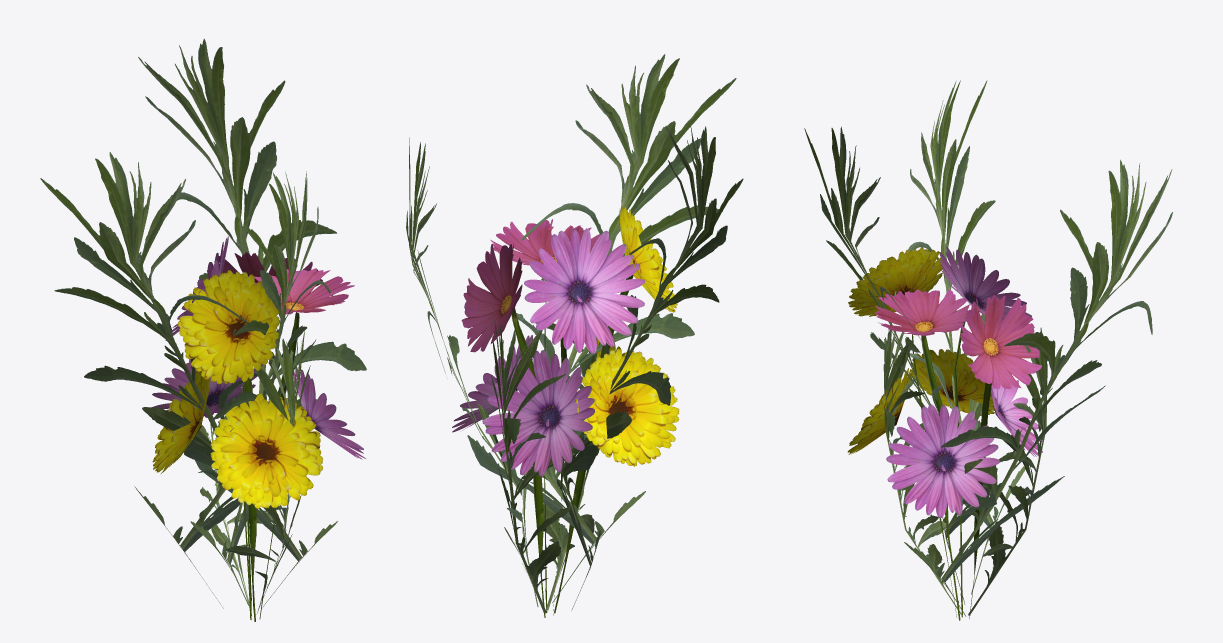
Rendered from Flower 4.fbx.
The picture shows the model from 3 angles, left to right: view 1: azimuth 30°, elevation 25°; view 2: azimuth 150°, elevation 25°; view 3: azimuth 270°, elevation 25°; orthographic projection. The views are drawn at different scales.
Parts seen in each view (by area): view 1: Flower_4; view 2: Flower_4; view 3: Flower_4.
Boxes of the visible parts, bbox=[...] form: Flower_4: bbox=[40, 39, 366, 621]; Flower_4: bbox=[406, 54, 743, 617]; Flower_4: bbox=[804, 80, 1172, 620].
Size of the model in its own units: 0.2554 by 0.4061 by 0.2975.
